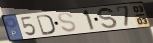1: (82, 9, 97, 32)
5: (20, 16, 38, 37)
7: (114, 5, 132, 28)
D: (35, 13, 57, 36)
S: (97, 7, 118, 30), (57, 11, 78, 33)
